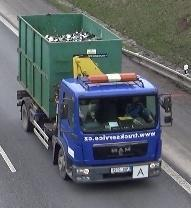Truck: (12, 16, 168, 188)
